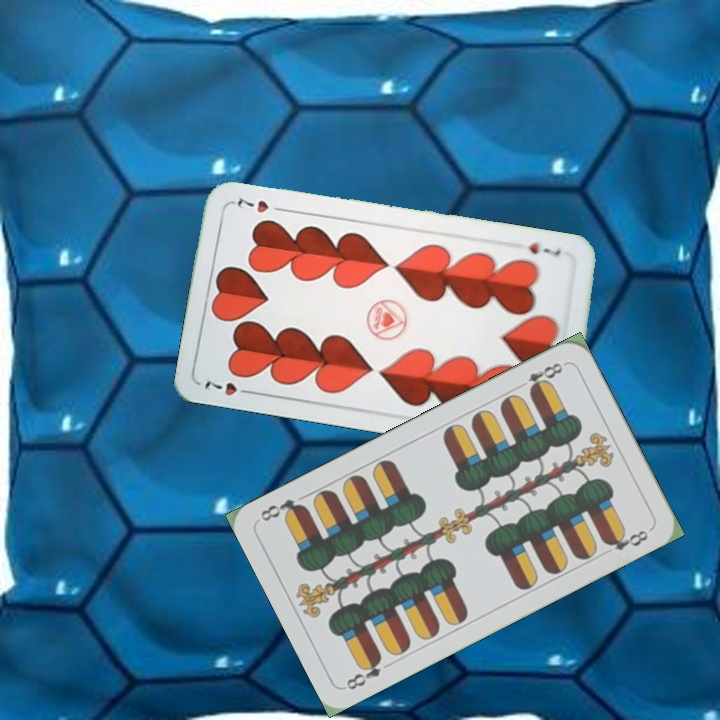E8: (342, 651, 385, 693), (523, 358, 568, 396)
H7: (200, 376, 257, 398), (525, 238, 564, 259)
